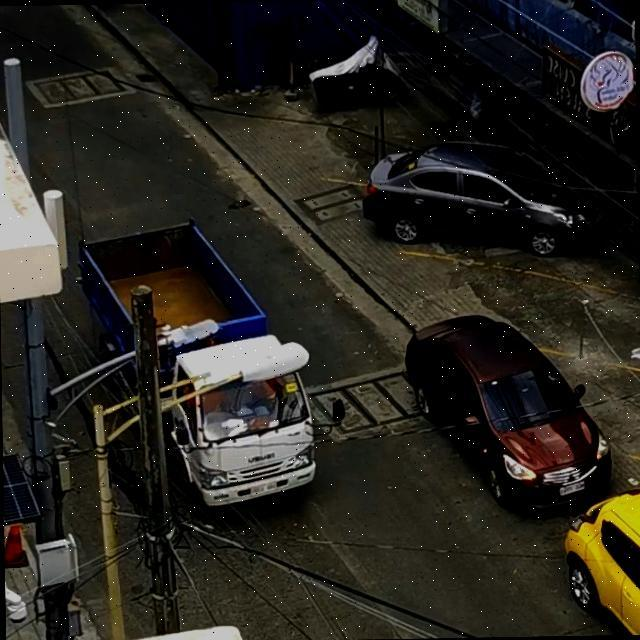Truck: (98, 224, 316, 497)
